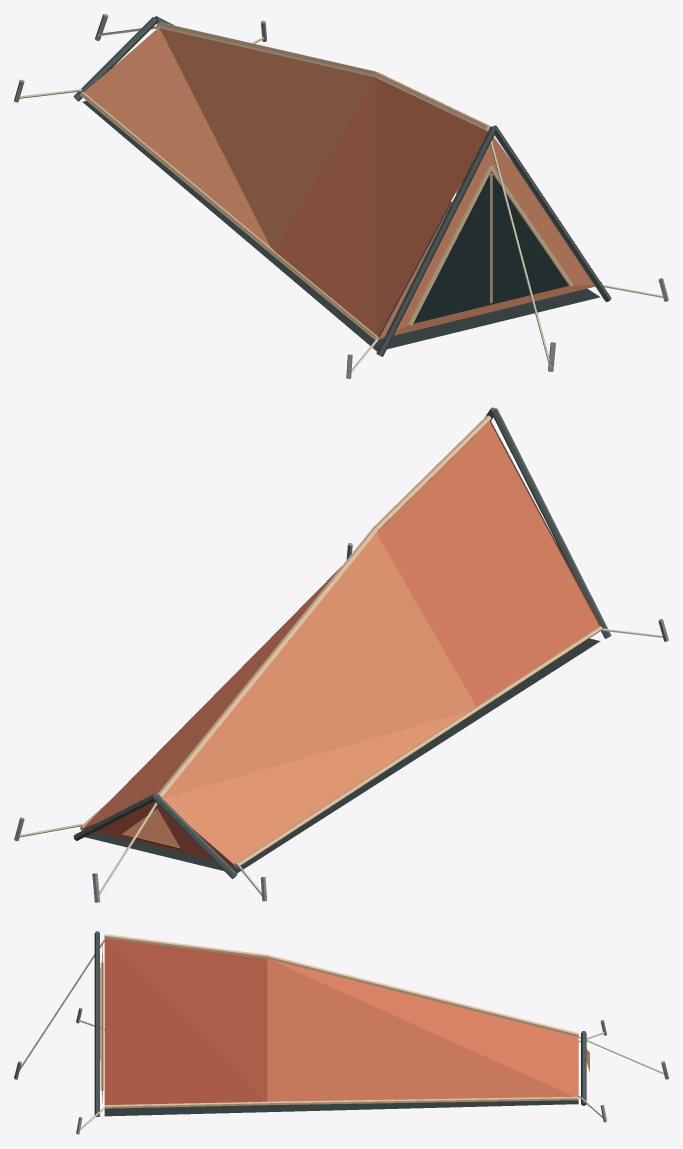
The model's file is 04_tiny_wedge_bivy.glb.
The picture shows the model from 3 angles, top to bottom: view 1: azimuth 30°, elevation 25°; view 2: azimuth 150°, elevation 25°; view 3: azimuth 270°, elevation 25°; orthographic projection. The views are drawn at different scales.
Parts seen in each view (by area): view 1: Left_Fly_Foot, Left_Fly_Head, Head_Entry_Mesh, Head_Entry_Border, Tapered_Groundsheet, Head_Support_01, Head_Support_02, Ridge_Tape_02, Left_Lower_Hem_02, Door_Zipper_01, Ridge_Tape_01, Foot_Support_01 (+3 smaller); view 2: Left_Fly_Foot, Left_Fly_Head, Right_Fly_Foot, Tapered_Groundsheet, Ridge_Tape_02, Head_Support_01, Foot_End_Panel, Left_Lower_Hem_02, Foot_Vent_Hood, Ridge_Tape_01, Foot_Support_01, Left_Lower_Hem_01; view 3: Right_Fly_Foot, Right_Fly_Head, Tapered_Groundsheet, Ridge_Tape_02, Right_Lower_Hem_02, Head_Support_02, Ridge_Tape_01, Right_Lower_Hem_01, Door_Zipper_02, Foot_Support_02, Head_Guy.
Part boxes in pixels (box(x1,y1,x2,y2)): Left_Fly_Foot: box(84, 28, 374, 250); Left_Fly_Head: box(275, 77, 487, 336); Head_Entry_Mesh: box(413, 172, 568, 323); Head_Entry_Border: box(378, 137, 594, 339); Tapered_Groundsheet: box(82, 101, 600, 351); Head_Support_01: box(376, 126, 495, 356); Head_Support_02: box(492, 125, 611, 301); Ridge_Tape_02: box(156, 22, 375, 76); Left_Lower_Hem_02: box(80, 92, 274, 255); Door_Zipper_01: box(408, 166, 492, 325); Ridge_Tape_01: box(373, 71, 490, 131); Foot_Support_01: box(73, 17, 157, 101); Left_Fly_Foot: box(162, 533, 476, 864); Left_Fly_Head: box(376, 421, 599, 706); Right_Fly_Foot: box(84, 566, 341, 827); Tapered_Groundsheet: box(85, 638, 600, 873); Ridge_Tape_02: box(157, 527, 377, 797); Head_Support_01: box(492, 408, 611, 638); Foot_End_Panel: box(82, 801, 235, 865); Left_Lower_Hem_02: box(234, 706, 479, 868); Foot_Vent_Hood: box(122, 808, 180, 848); Ridge_Tape_01: box(373, 415, 491, 530); Foot_Support_01: box(153, 794, 237, 878); Left_Lower_Hem_01: box(477, 626, 602, 710); Right_Fly_Foot: box(267, 959, 578, 1101); Right_Fly_Head: box(104, 938, 267, 1105); Tapered_Groundsheet: box(104, 1100, 578, 1116); Ridge_Tape_02: box(267, 954, 579, 1036); Right_Lower_Hem_02: box(267, 1096, 578, 1104); Head_Support_02: box(94, 933, 99, 1116); Ridge_Tape_01: box(104, 934, 267, 958); Right_Lower_Hem_01: box(104, 1101, 267, 1108); Door_Zipper_02: box(100, 963, 103, 1090); Foot_Support_02: box(581, 1032, 586, 1105); Head_Guy: box(20, 939, 104, 1069).
Bounding box in the file's own units: 1.3 × 0.7857 × 3.18.
